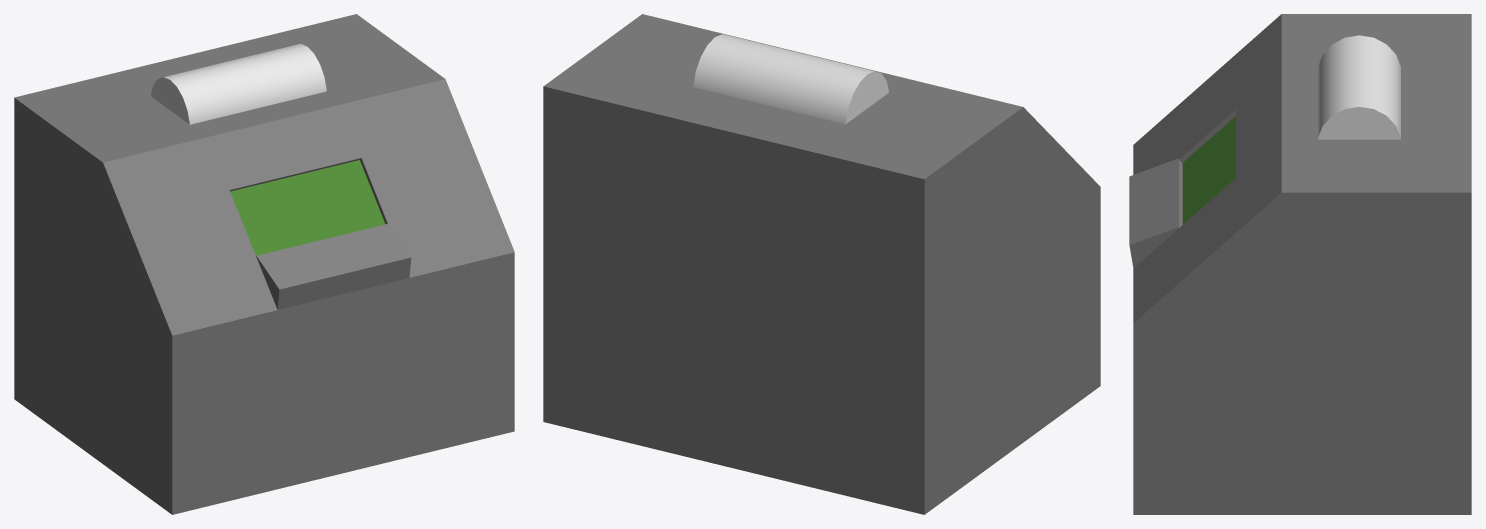
The model's file is Alien_computer.fbx.
3 renders of one model, left to right at view 1: azimuth 30°, elevation 25°; view 2: azimuth 150°, elevation 25°; view 3: azimuth 270°, elevation 25°, orthographic. The views are drawn at different scales.
Visible parts, largest first — view 1: Box002, Cylinder001; view 2: Box002, Cylinder001; view 3: Box002, Cylinder001.
Boxes of the visible parts, x1=… form: Box002: x1=14, y1=14, x2=514, y2=514; Cylinder001: x1=151, y1=44, x2=326, y2=124; Box002: x1=543, y1=14, x2=1100, y2=514; Cylinder001: x1=693, y1=34, x2=888, y2=124; Box002: x1=1129, y1=14, x2=1471, y2=514; Cylinder001: x1=1318, y1=35, x2=1400, y2=139.
Size of the model in its own units: 100 by 92.72 by 80.93.
